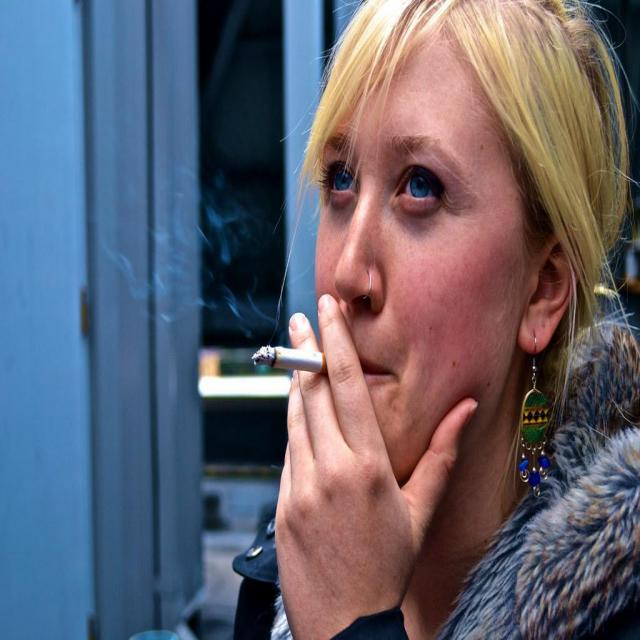smoke: (240, 333, 354, 398)
